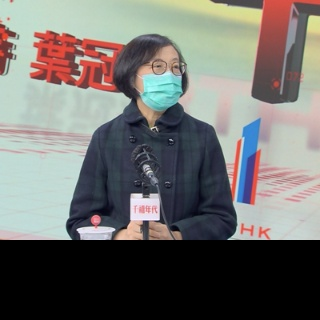with_mask: (136, 56, 185, 112)
